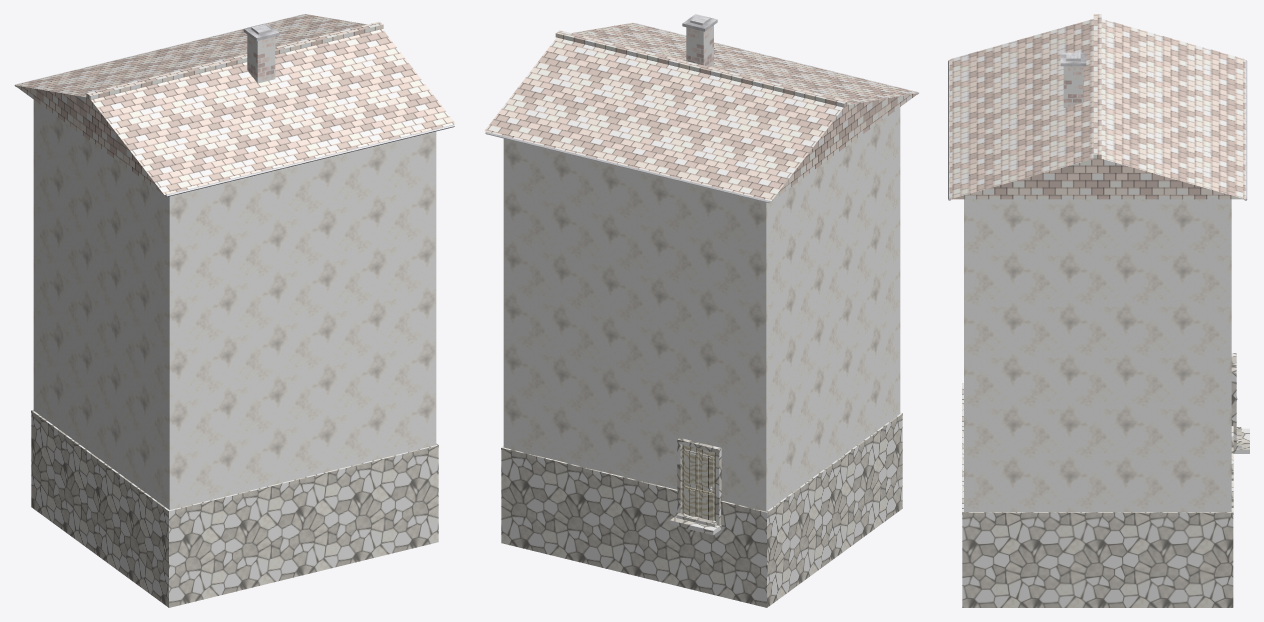
The picture shows the model from 3 angles, left to right: view 1: azimuth 30°, elevation 25°; view 2: azimuth 150°, elevation 25°; view 3: azimuth 270°, elevation 25°; orthographic projection.
Parts seen in each view (by area): view 1: b1085383206; view 2: b1085383206; view 3: b1085383206.
Part boxes in pixels (x1,y1,x2,y2): b1085383206: (14,14,455,607); b1085383206: (484,14,919,607); b1085383206: (948,14,1249,607).
Size of the model in its own units: 8.26 by 13.52 by 7.48.
Materials: 14 (14 with a texture image).
